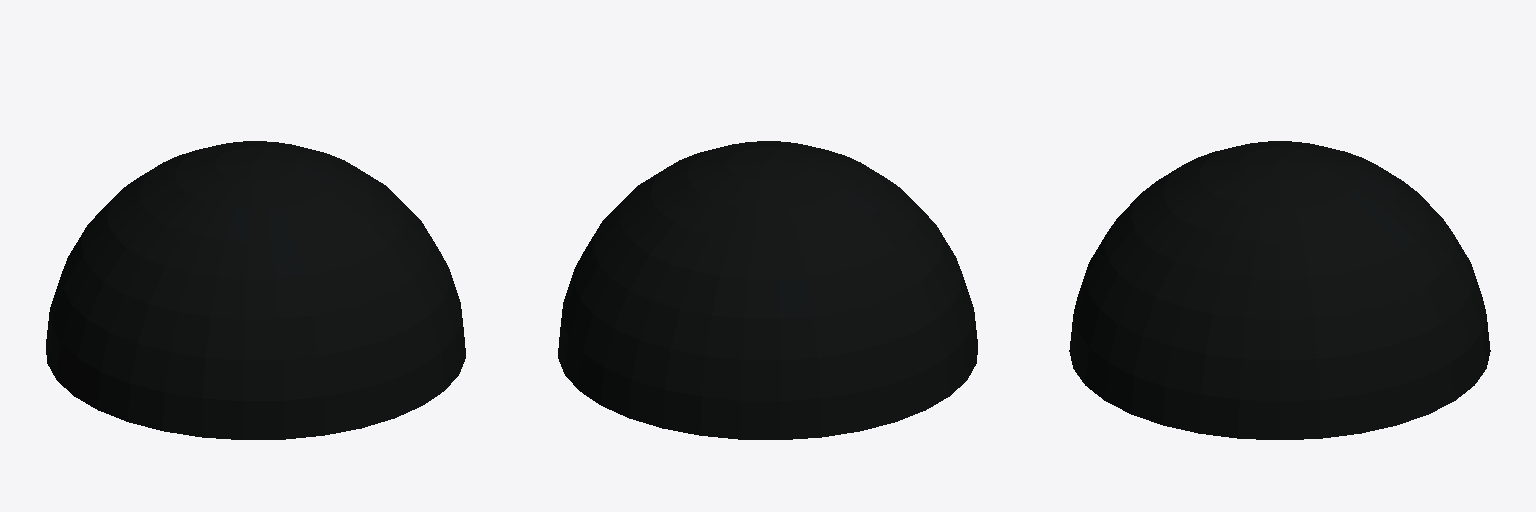
The model's file is phead.mtl.obj.
The picture shows the model from 3 angles: view 1: azimuth 30°, elevation 25°; view 2: azimuth 150°, elevation 25°; view 3: azimuth 270°, elevation 25°; orthographic projection.
Visible parts, largest first — view 1: Sphere; view 2: Sphere; view 3: Sphere.
Boxes of the visible parts, x1=… form: Sphere: x1=46, y1=141, x2=465, y2=439; Sphere: x1=558, y1=141, x2=977, y2=439; Sphere: x1=1069, y1=141, x2=1490, y2=439.
Bounding box in the file's own units: 1 × 0.5 × 1.